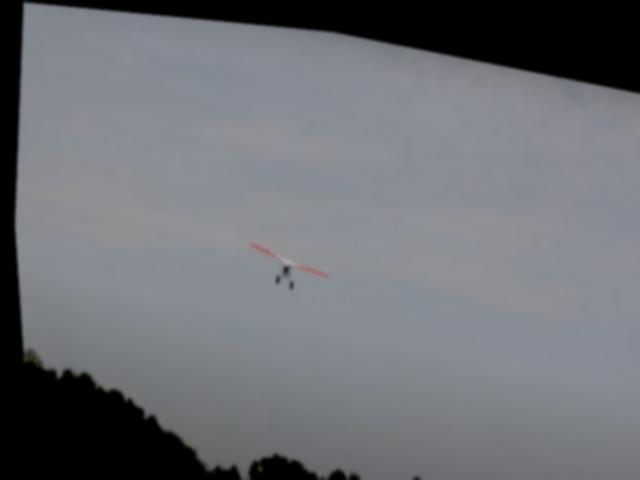uav: (234, 226, 335, 302)
